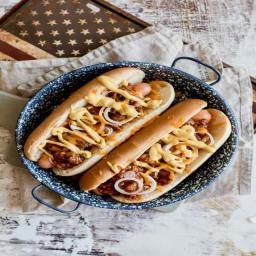hotdog: (23, 68, 175, 176), (82, 98, 226, 210)
